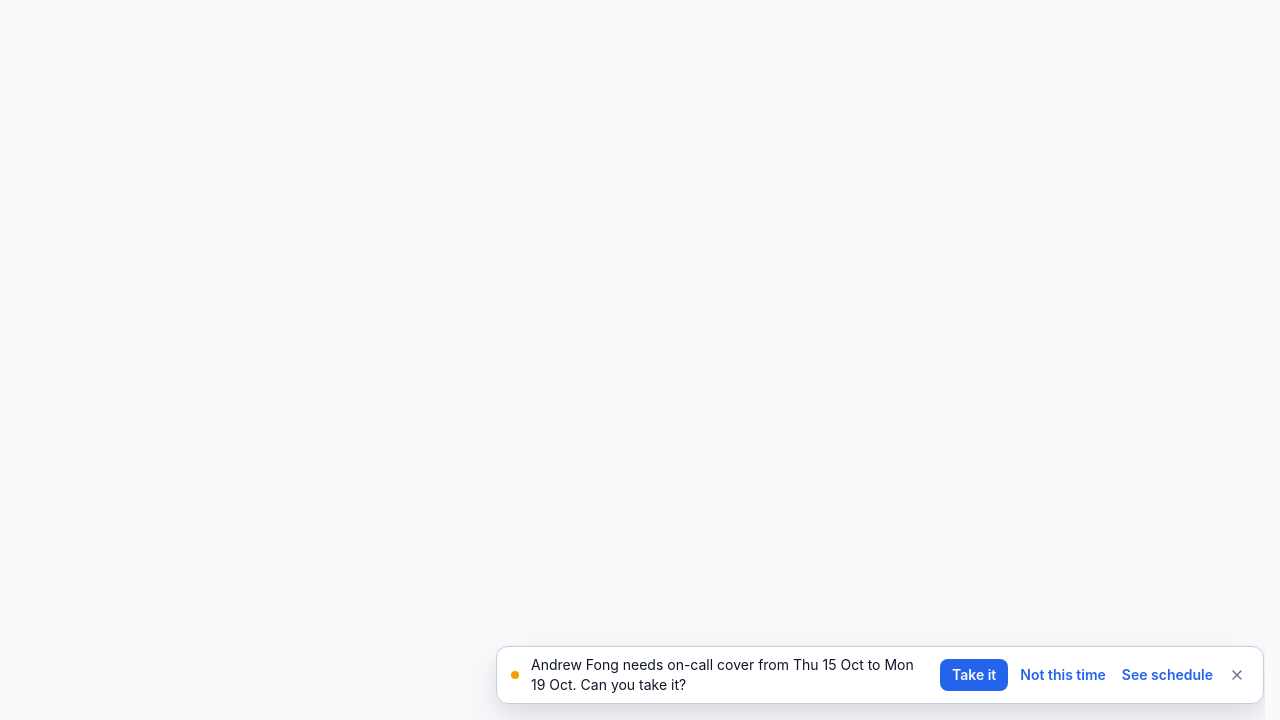
CoverRequestBanner › Take it confirms with the exact commitment, then accepts and says thank you
Click the button "Take it".
click(974, 675)  # box x1=940 y1=659 x2=1008 y2=691
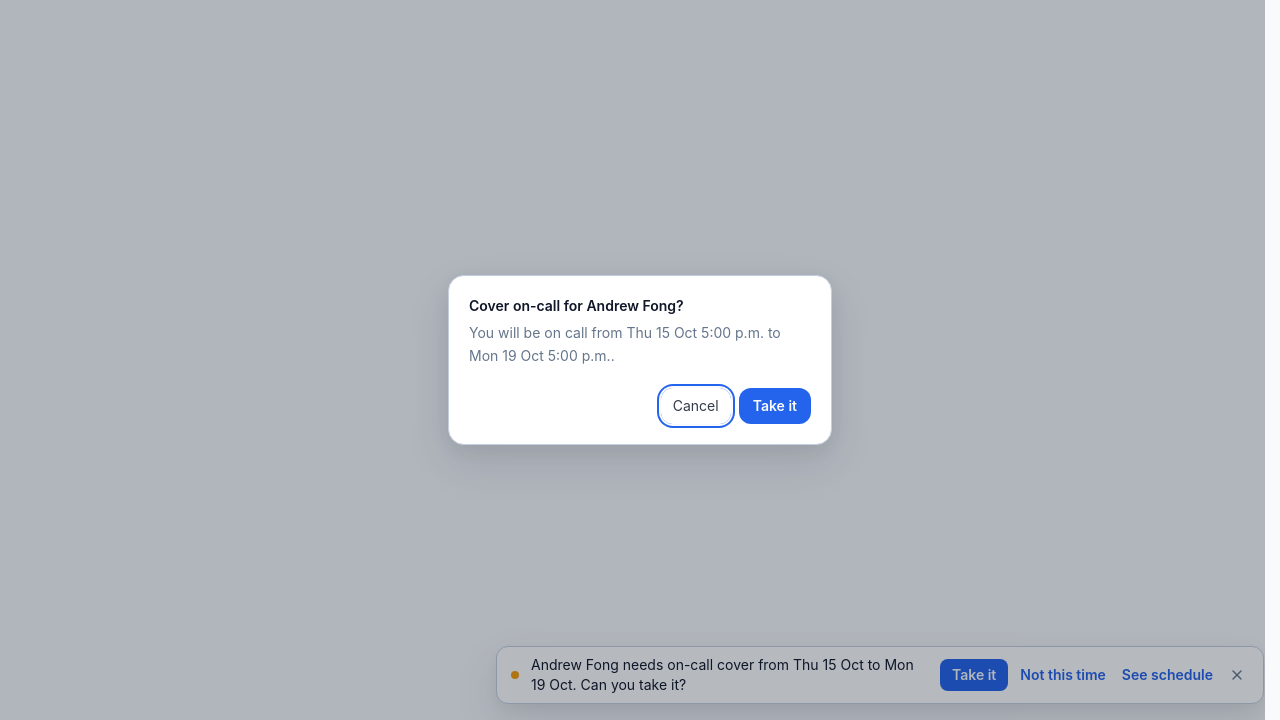
Check: the dialog shows "You will be on call from Thu 15 Oct 5:00 p.m. to Mon 19 Oct 5:00 p.m.", box x1=469 y1=324 x2=781 y2=364
Click the button "Take it".
click(775, 406)  # box x1=739 y1=388 x2=811 y2=424
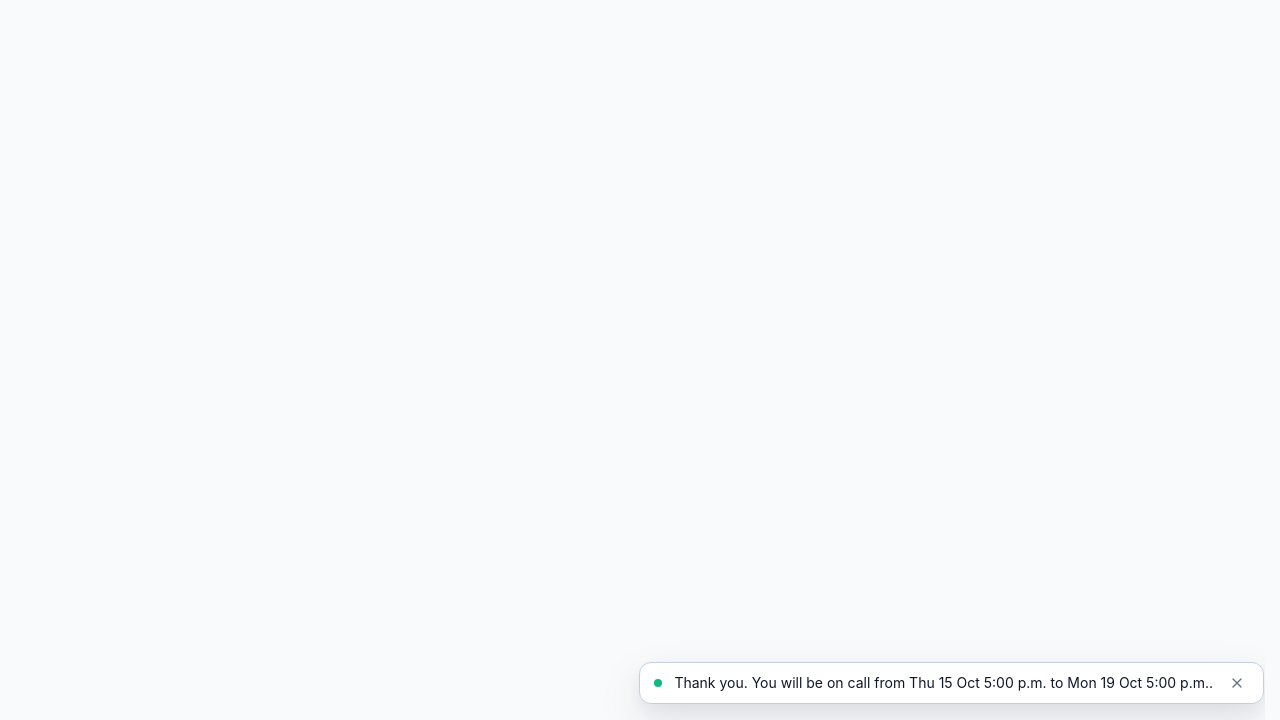
Check: the text "Thank you. You will be on call from Thu 15 Oct" is shown, box x1=674 y1=674 x2=1213 y2=691
Check: the text "take it" is gone
